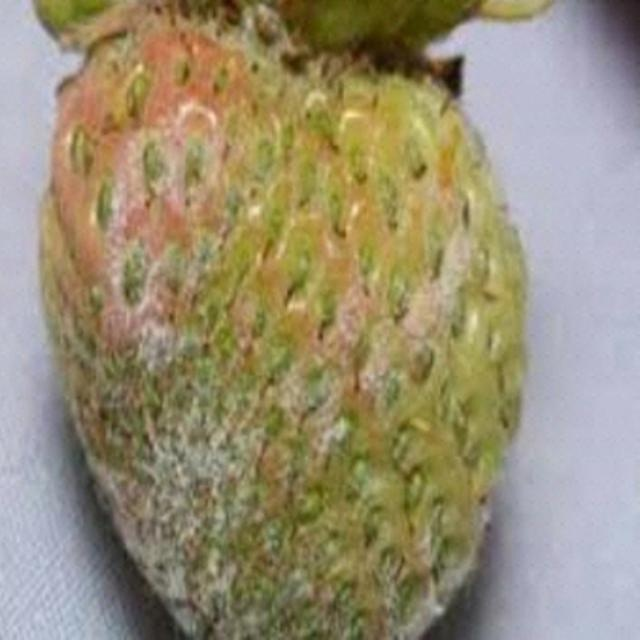Powdery Mildew Fruit: (45, 3, 505, 638)
